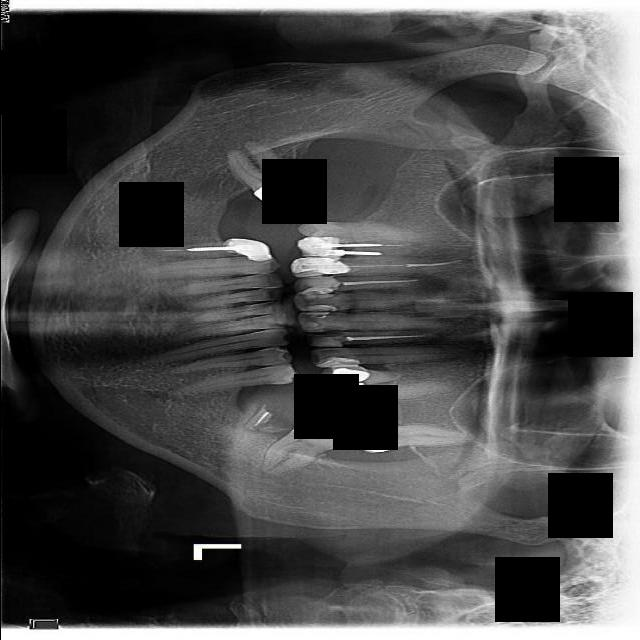71: (187, 245, 247, 254), (311, 242, 384, 249), (303, 264, 404, 269), (327, 249, 381, 256)
72: (242, 402, 275, 438), (254, 420, 289, 436)
74: (344, 332, 425, 341), (343, 278, 419, 286), (406, 260, 464, 268), (162, 249, 185, 252)
NucleOSS Implant: (253, 185, 313, 208)
Sterngold Implant: (308, 330, 343, 338), (318, 325, 346, 333), (318, 347, 345, 353)
Straumann Implant: (221, 235, 271, 263), (297, 232, 340, 260), (292, 256, 349, 277), (293, 273, 338, 296), (315, 353, 360, 369), (310, 335, 346, 348), (296, 291, 337, 302), (301, 320, 325, 333), (300, 312, 332, 319), (301, 305, 336, 311)
Zimmer Implant: (327, 401, 394, 427), (318, 360, 367, 388), (346, 425, 392, 454), (326, 381, 378, 404)
